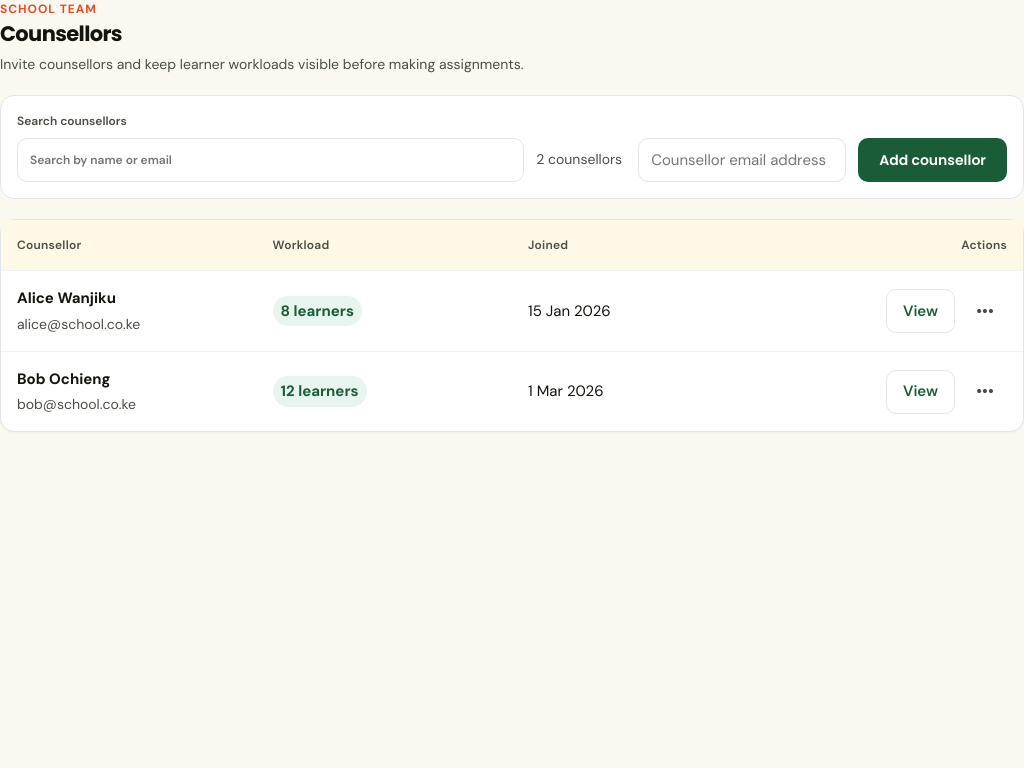
Test: CounselorManagementPage › opens workload details from the visible primary action
expect the text "Alice Wanjiku" is shown: met, box [17,288,116,308]
Click the button with aria-label "View workload for Alice Wanjiku" at (920, 311), box [886,289,955,333]
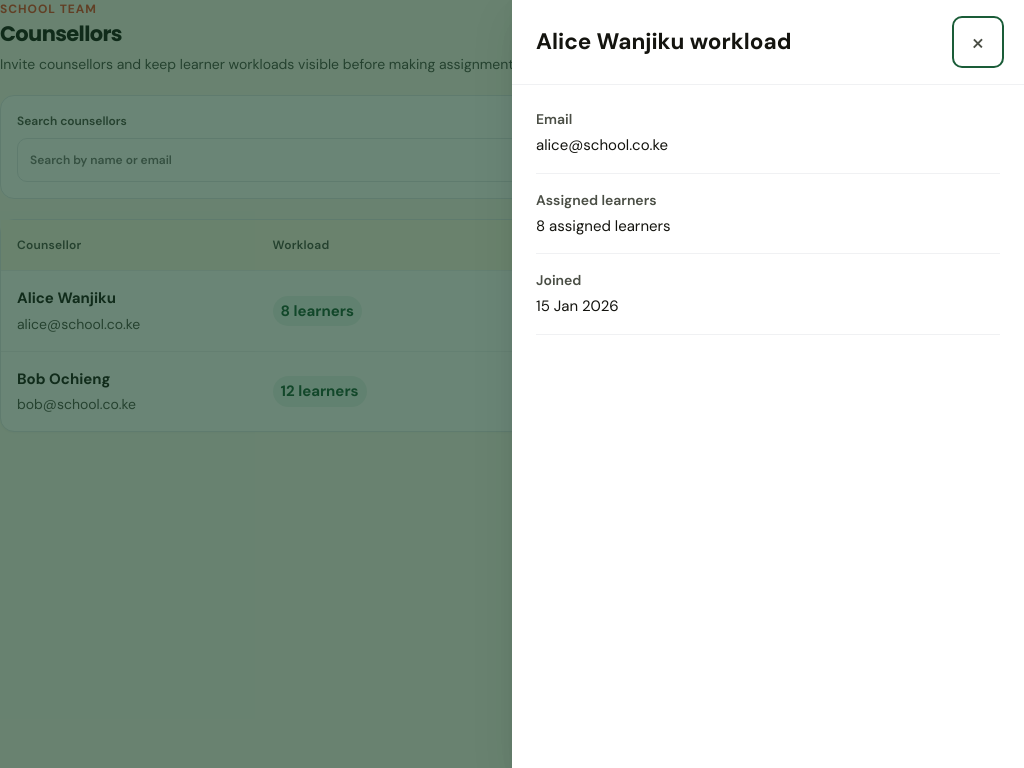
expect the dialog "Alice Wanjiku workload" shows "8 assigned learners": met, box [512,0,1023,767]
